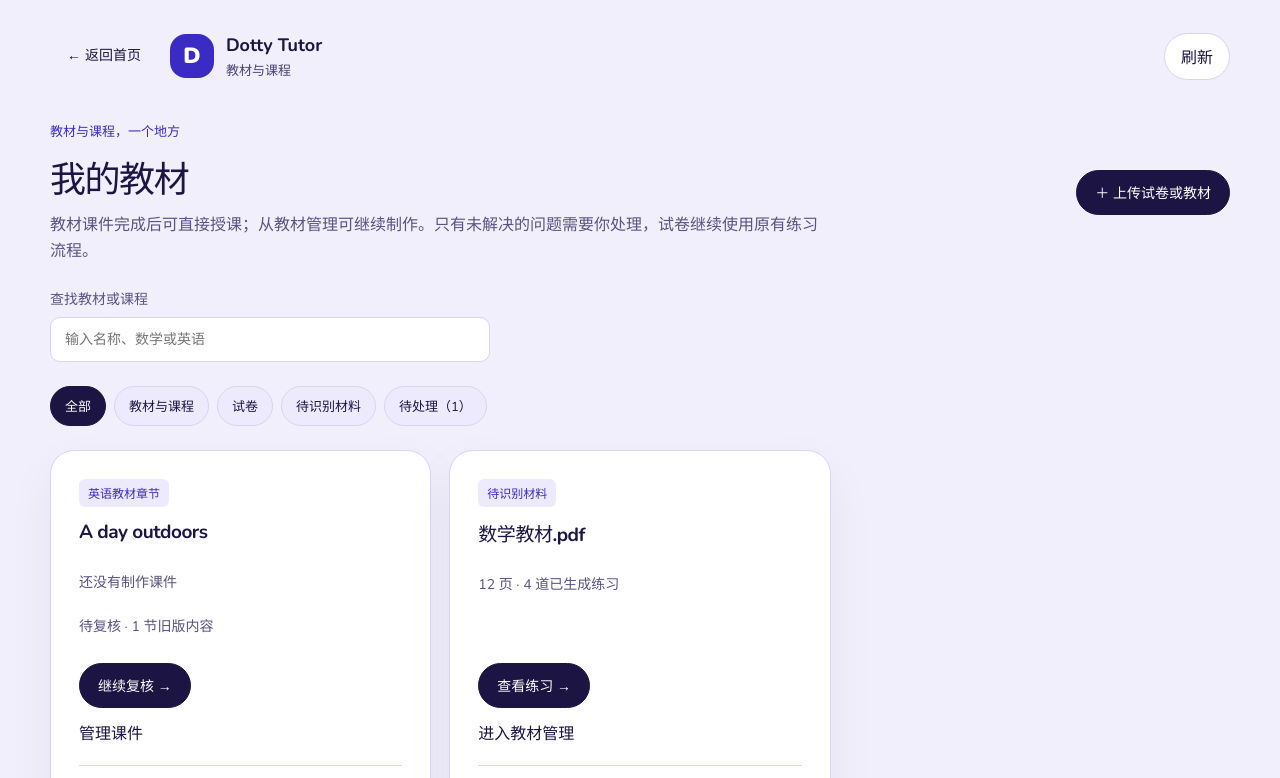
it: user Given an uploaded PDF and an English course When opening my materials Then both can be continued from one library
Expected: the heading "A day outdoors" is shown, 79,519 -> 208,545
Expected: the heading "数学教材.pdf" is shown, 478,519 -> 585,548
Type "英语" into the search field at coordinates (270, 340), box 50,317 -> 490,362
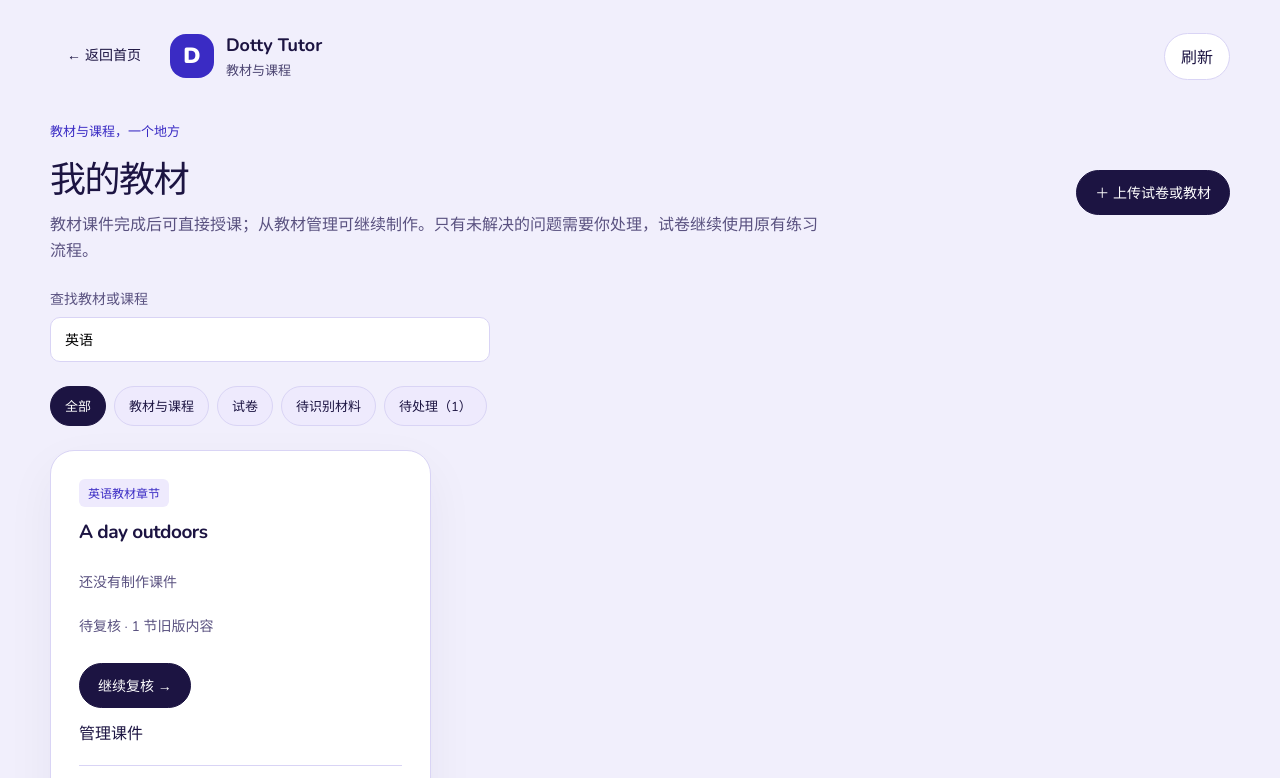
Expected: the heading "A day outdoors" is shown, 79,519 -> 208,545
Result: the heading "数学教材.pdf" is gone
